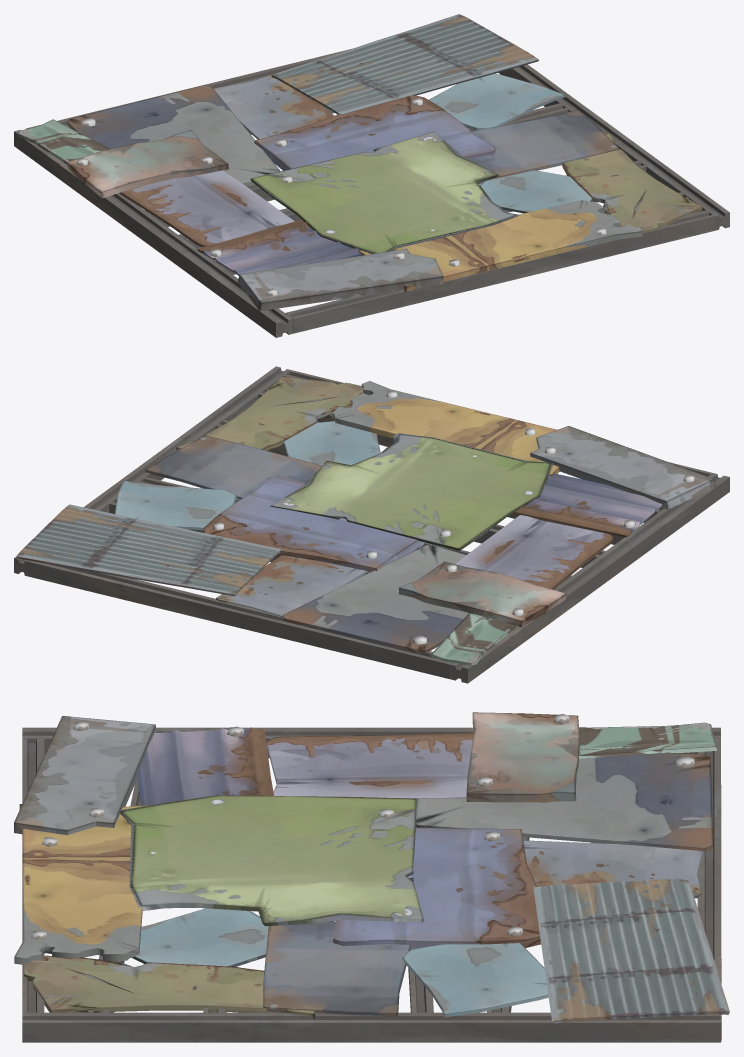
File: metal-floor.glb
3 views of the same model, one above another, from view 1: azimuth 30°, elevation 25°; view 2: azimuth 150°, elevation 25°; view 3: azimuth 270°, elevation 25° (orthographic). The views are drawn at different scales.
Parts seen in each view (by area): view 1: PBW_M1_Floor.dmx-static; view 2: PBW_M1_Floor.dmx-static; view 3: PBW_M1_Floor.dmx-static.
Part boxes in pixels (<box>): PBW_M1_Floor.dmx-static: <box>14,14,729,337</box>; PBW_M1_Floor.dmx-static: <box>14,366,729,683</box>; PBW_M1_Floor.dmx-static: <box>14,712,729,1042</box>.
Size of the model in its own units: 5.59 by 0.313 by 5.55.
Materials: 1 (1 with a texture image).
